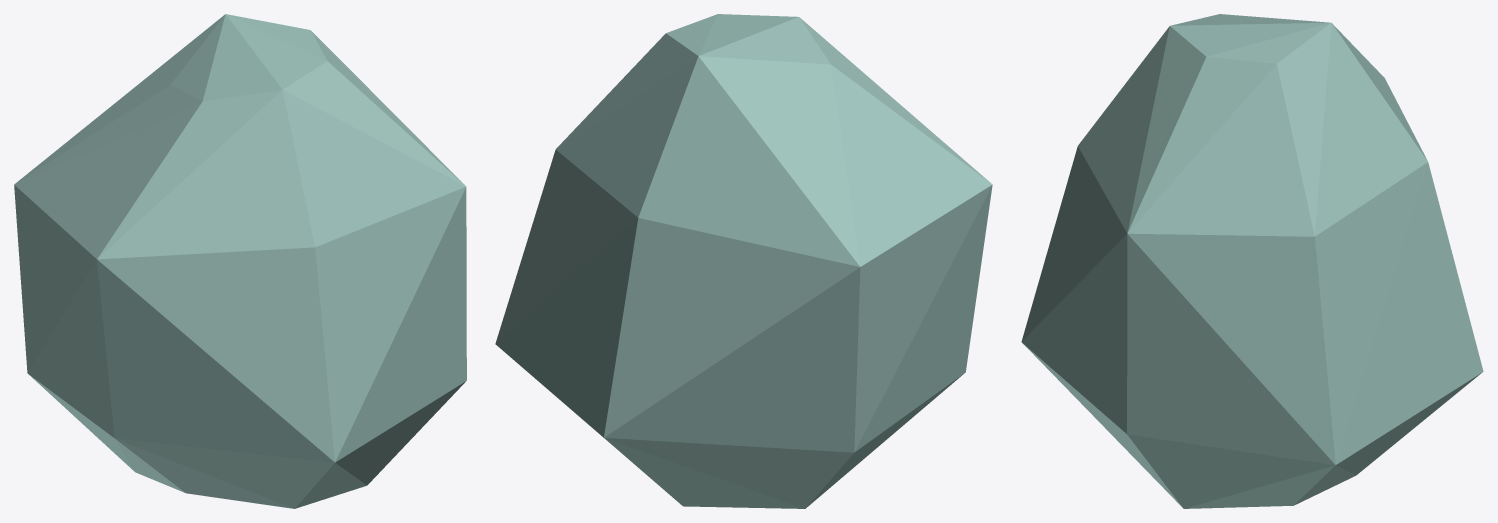
Rendered from SM_MR_Crystal_Loose_04.fbx.
The picture shows the model from 3 angles, left to right: view 1: azimuth 30°, elevation 25°; view 2: azimuth 150°, elevation 25°; view 3: azimuth 270°, elevation 25°; orthographic projection. The views are drawn at different scales.
Visible parts, largest first — view 1: SM_MR_Crystal_Loose_04; view 2: SM_MR_Crystal_Loose_04; view 3: SM_MR_Crystal_Loose_04.
Boxes of the visible parts, <box> form: SM_MR_Crystal_Loose_04: <box>14,14,466,508</box>; SM_MR_Crystal_Loose_04: <box>495,14,992,508</box>; SM_MR_Crystal_Loose_04: <box>1021,14,1483,508</box>.
Size of the model in its own units: 0.2564 by 0.2433 by 0.2622.
